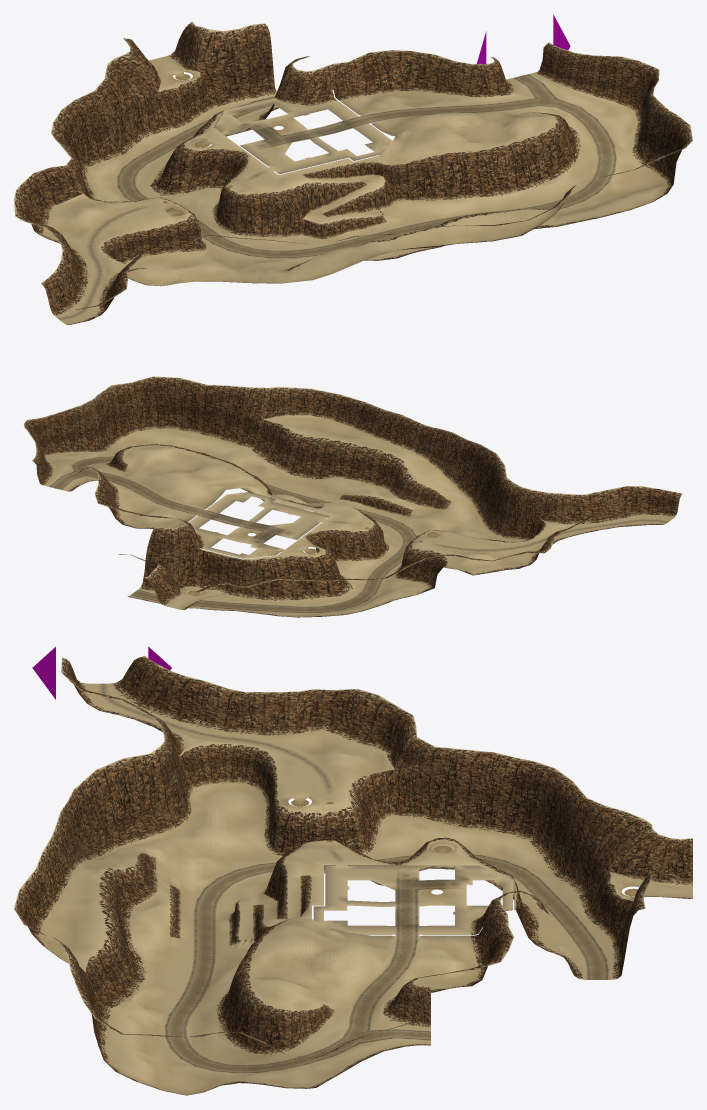
Rendered from Mission8_Zone03.glb.
3 views of the same model, one above another, from view 1: azimuth 30°, elevation 25°; view 2: azimuth 150°, elevation 25°; view 3: azimuth 270°, elevation 25° (orthographic). The views are drawn at different scales.
Visible parts, largest first — view 1: MISSION8_ZONE03683, MISSION8_ZONE03305, MISSION8_ZONE03464, MISSION8_ZONE03272, MISSION8_ZONE03684, MISSION8_ZONE03298, MISSION8_ZONE03277, MISSION8_ZONE03536, MISSION8_ZONE03681, MISSION8_ZONE03652, MISSION8_ZONE03429, MISSION8_ZONE03595 (+42 smaller); view 2: MISSION8_ZONE03071, MISSION8_ZONE03139, MISSION8_ZONE03648, MISSION8_ZONE03632, MISSION8_ZONE03068, MISSION8_ZONE03318, MISSION8_ZONE03104, MISSION8_ZONE03629, MISSION8_ZONE03605, MISSION8_ZONE03072, MISSION8_ZONE03051, MISSION8_ZONE03070 (+51 smaller); view 3: MISSION8_ZONE03555, MISSION8_ZONE03598, MISSION8_ZONE03530, MISSION8_ZONE03578, MISSION8_ZONE03051, MISSION8_ZONE03113, MISSION8_ZONE03621, MISSION8_ZONE03081, MISSION8_ZONE03080, MISSION8_ZONE03501, MISSION8_ZONE03500, MISSION8_ZONE03214 (+33 smaller).
Part boxes in pixels (x1,y1,x2,y2): MISSION8_ZONE03683: (223,38,263,103); MISSION8_ZONE03305: (401,155,437,200); MISSION8_ZONE03464: (588,55,621,97); MISSION8_ZONE03272: (439,154,477,199); MISSION8_ZONE03684: (246,33,276,98); MISSION8_ZONE03298: (280,196,310,237); MISSION8_ZONE03277: (533,131,566,182); MISSION8_ZONE03536: (175,145,211,185); MISSION8_ZONE03681: (200,61,230,110); MISSION8_ZONE03652: (76,91,112,141); MISSION8_ZONE03429: (617,56,647,105); MISSION8_ZONE03595: (394,53,432,89); MISSION8_ZONE03071: (172,380,206,433); MISSION8_ZONE03139: (114,384,136,438); MISSION8_ZONE03648: (159,531,186,585); MISSION8_ZONE03632: (185,531,211,583); MISSION8_ZONE03068: (218,401,244,445); MISSION8_ZONE03318: (49,406,85,452); MISSION8_ZONE03104: (131,384,154,429); MISSION8_ZONE03629: (223,557,252,599); MISSION8_ZONE03605: (262,561,299,598); MISSION8_ZONE03072: (153,378,179,426); MISSION8_ZONE03051: (461,446,488,498); MISSION8_ZONE03070: (191,392,224,438); MISSION8_ZONE03555: (423,746,472,818); MISSION8_ZONE03598: (478,766,526,831); MISSION8_ZONE03530: (420,752,468,823); MISSION8_ZONE03578: (458,773,502,831); MISSION8_ZONE03051: (76,782,116,853); MISSION8_ZONE03113: (124,753,165,821); MISSION8_ZONE03621: (509,778,545,841); MISSION8_ZONE03081: (103,782,144,846); MISSION8_ZONE03080: (98,758,138,831); MISSION8_ZONE03501: (391,778,425,820); MISSION8_ZONE03500: (393,740,429,789); MISSION8_ZONE03214: (197,681,239,726).
Size of the model in its own units: 316 by 38.66 by 228.
31 materials, 30 textured.
